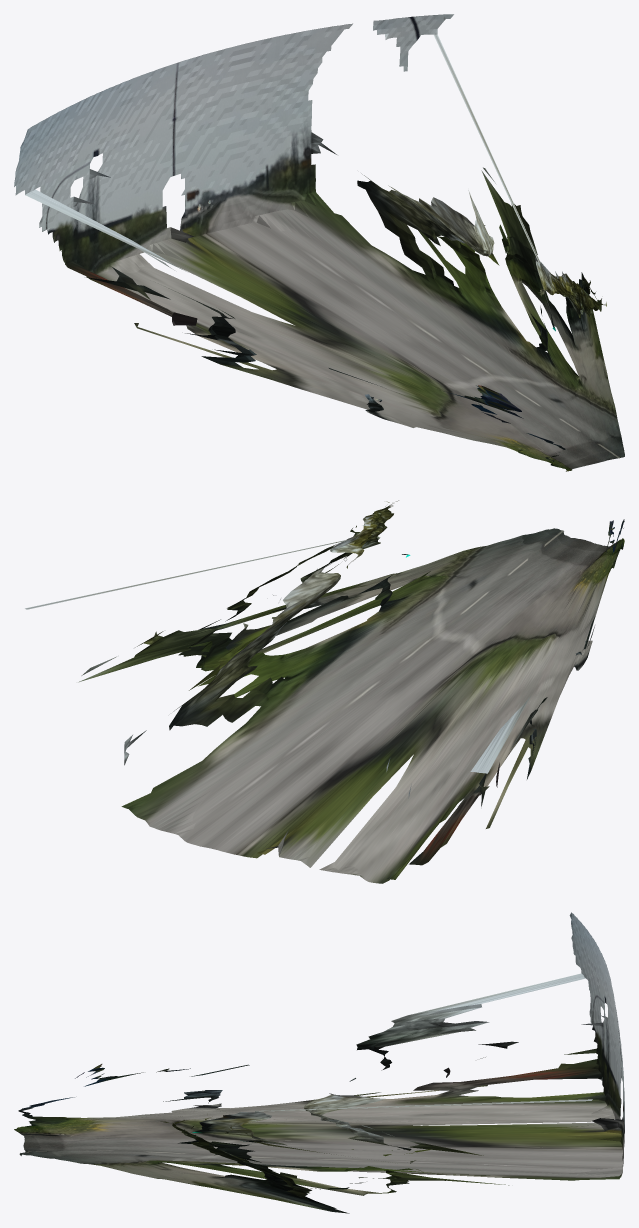
The picture shows the model from 3 angles, top to bottom: view 1: azimuth 30°, elevation 25°; view 2: azimuth 150°, elevation 25°; view 3: azimuth 270°, elevation 25°; orthographic projection. The views are drawn at different scales.
Visible parts, largest first — view 1: defaultobject; view 2: defaultobject; view 3: defaultobject.
Boxes of the visible parts, left/top/right/bottom form: defaultobject: left=14, top=14, right=624, bottom=471; defaultobject: left=25, top=500, right=624, bottom=883; defaultobject: left=14, top=912, right=624, bottom=1213.
Size of the model in its own units: 32.32 by 13.14 by 45.2.
1 material, 1 textured.
